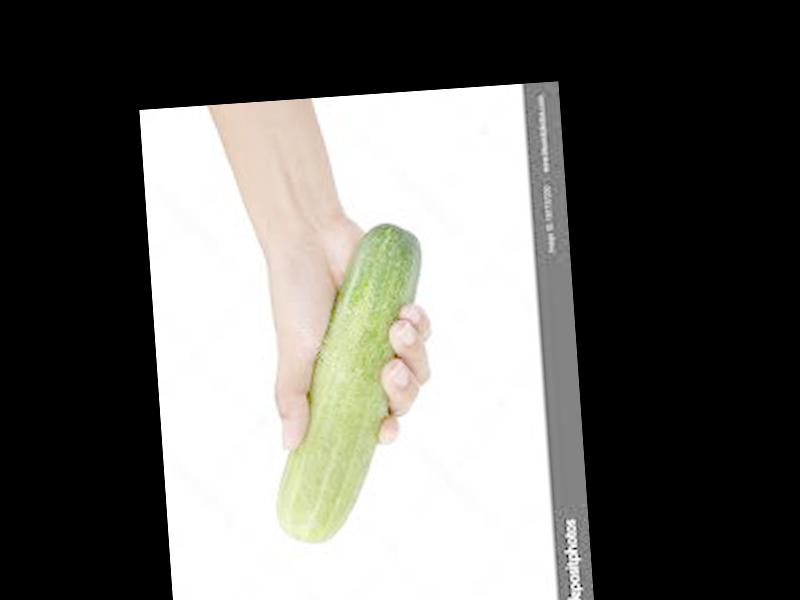Cucumber: (255, 220, 438, 544)
